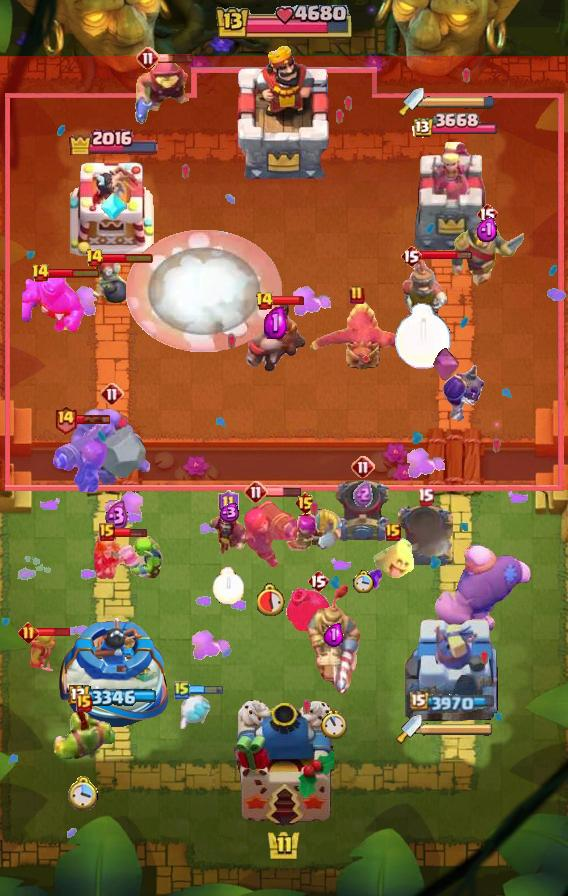archer: (284, 513, 326, 557)
bar: (48, 267, 101, 279), (101, 252, 154, 264), (420, 250, 473, 261), (158, 52, 195, 64), (266, 486, 302, 498), (189, 684, 224, 696), (37, 626, 72, 638), (112, 527, 148, 538), (76, 414, 111, 425), (271, 295, 305, 306)
bar-level: (53, 404, 78, 435), (244, 480, 268, 504), (351, 455, 375, 479), (100, 382, 124, 406), (136, 46, 160, 70), (294, 491, 317, 515), (218, 490, 239, 516), (307, 569, 329, 593), (400, 244, 422, 268), (476, 202, 498, 226), (18, 622, 39, 643), (255, 291, 274, 311), (31, 263, 50, 283), (85, 248, 104, 268), (417, 487, 434, 506), (174, 680, 190, 700), (349, 285, 365, 305), (76, 694, 92, 712), (99, 523, 115, 541), (385, 523, 401, 541)
bomb: (286, 586, 332, 631)
bomber: (90, 255, 130, 303)
bomber-evolution: (443, 357, 487, 423)
clock: (394, 303, 452, 370), (68, 774, 100, 811), (212, 567, 244, 604), (257, 583, 286, 616), (321, 710, 347, 739), (353, 570, 374, 593)
dagger-duchess-tower: (405, 611, 501, 731), (412, 140, 494, 256)
dagger-duchess-tower-bar: (422, 722, 494, 736), (424, 95, 496, 109)
elite-barbarian: (295, 507, 343, 550)
elixir: (105, 500, 129, 533), (264, 307, 287, 339), (476, 217, 499, 243), (353, 481, 373, 507), (324, 622, 344, 647), (217, 503, 240, 522)
elixir-golem-mid: (22, 273, 84, 333)
evolution-symbol: (432, 347, 460, 383)
firecracker-evolution: (242, 492, 300, 570), (50, 421, 108, 495)
goblin: (124, 531, 164, 581), (27, 631, 61, 675)
goblin-brawler: (50, 712, 118, 768)
heal-spirit: (371, 537, 415, 581)
ice-spirit: (176, 692, 214, 732)
ice-spirit-evolution-symbol: (100, 191, 128, 223)
king-tower: (230, 43, 338, 181), (234, 700, 334, 826)
king-tower-bar: (213, 5, 355, 43)
knight: (450, 223, 524, 286)
mortar: (393, 503, 457, 569), (332, 477, 394, 545)
queen-tower: (55, 614, 174, 731), (70, 154, 158, 256)
ram-rider: (242, 297, 308, 373)
royal-recruit: (396, 260, 450, 326)
tower-bar: (68, 126, 160, 155), (410, 113, 497, 140), (69, 685, 159, 708), (410, 691, 497, 713)
valkyrie: (93, 535, 141, 581)
wizard: (206, 508, 250, 560)
